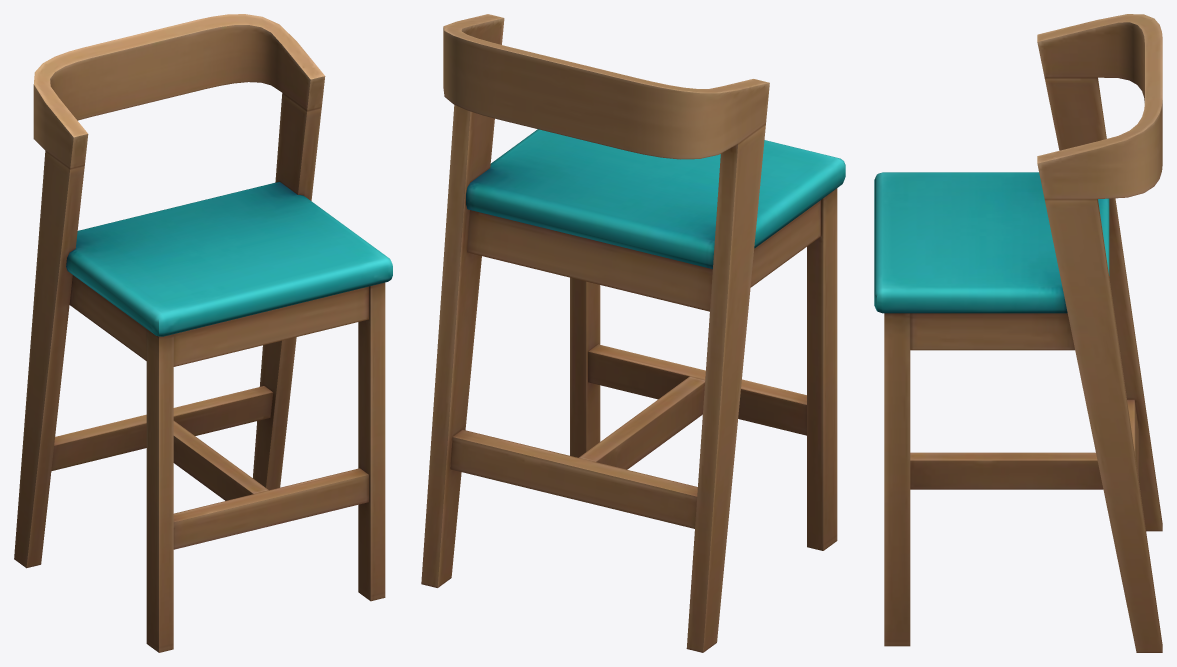
The model's file is tiny_not_quite_orbital_sitting.glb.
3 views of the same model, side by side, from view 1: azimuth 30°, elevation 25°; view 2: azimuth 150°, elevation 25°; view 3: azimuth 270°, elevation 25° (orthographic). The views are drawn at different scales.
Visible parts, largest first — view 1: TinyLiving_NotQuiteOrbitalSitting_41; view 2: TinyLiving_NotQuiteOrbitalSitting_41; view 3: TinyLiving_NotQuiteOrbitalSitting_41.
Part boxes in pixels (<box>): TinyLiving_NotQuiteOrbitalSitting_41: <box>14,14,392,652</box>; TinyLiving_NotQuiteOrbitalSitting_41: <box>421,14,845,652</box>; TinyLiving_NotQuiteOrbitalSitting_41: <box>874,14,1162,652</box>.
Size of the model in its own units: 0.8023 by 1.51 by 0.7575.
1 material, 1 textured.
